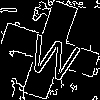W: (25, 25, 85, 84)
